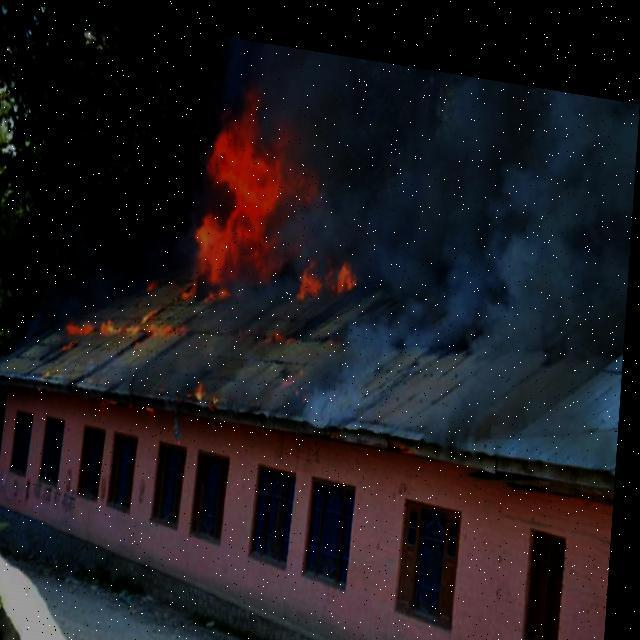Fire: (188, 94, 372, 303), (67, 300, 179, 344)
